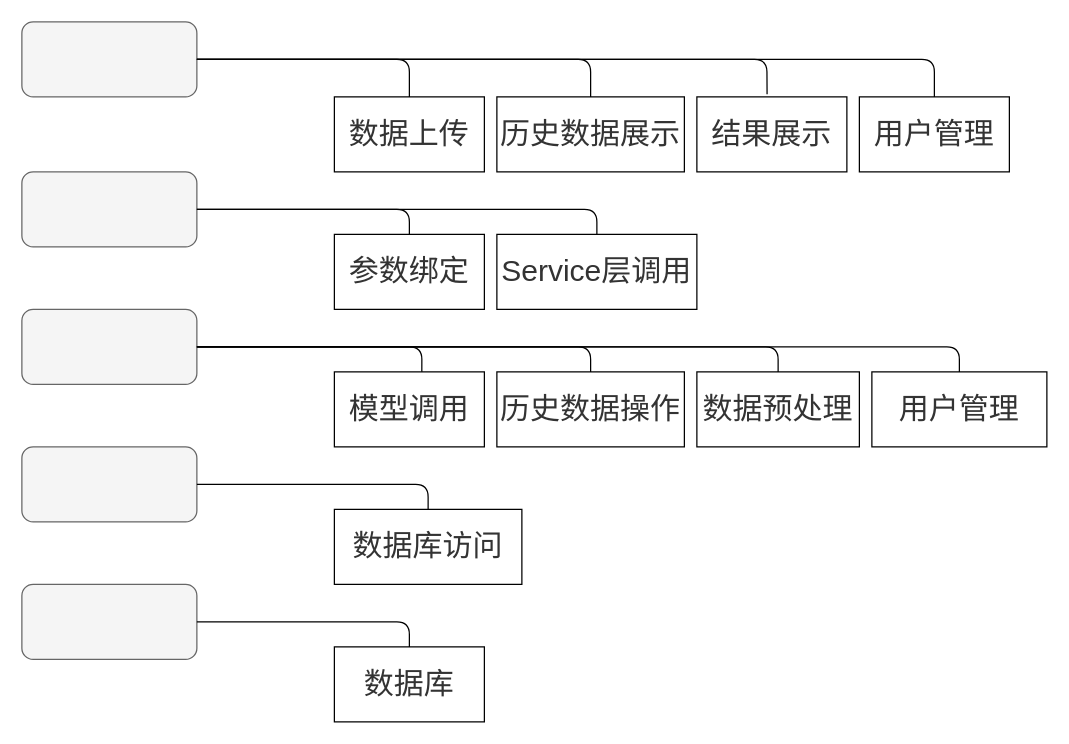
This 1069x744 diagram has some shape labels left out. The centre of each missing label's shape, as x and y in pixels:
"Controller层" belongs at (109,209).
"Dao层" belongs at (109,484).
"Entity层" belongs at (109,621).
"Service层" belongs at (109,346).
"View层" belongs at (109,59).
